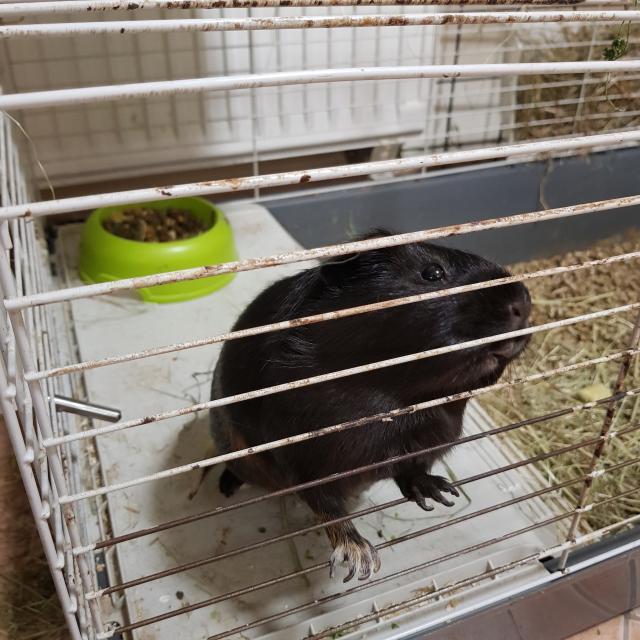guinea pig: (206, 225, 532, 585)
